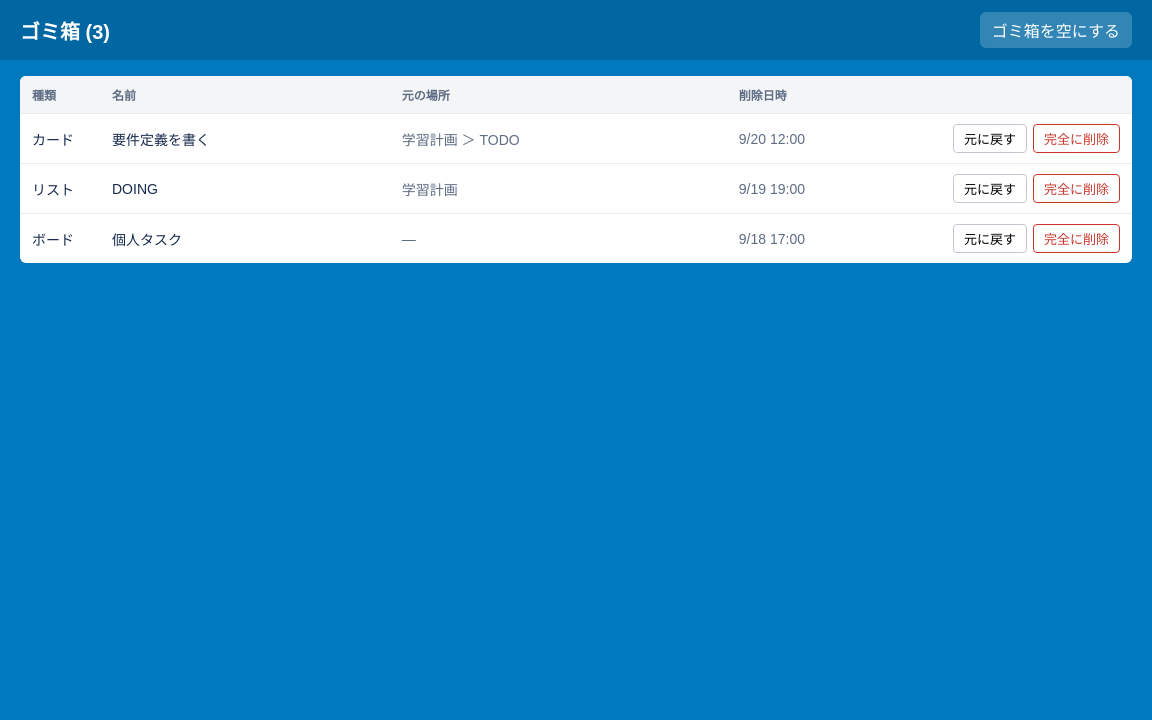
Scenario: 元に戻す（F-42） › 409 のときはサーバーの文言をそのまま出す
This screenshot has width=1152, height=720.
Click the button "元に戻す" in the row of "リスト" at (990,188), box [953,174,1027,203]
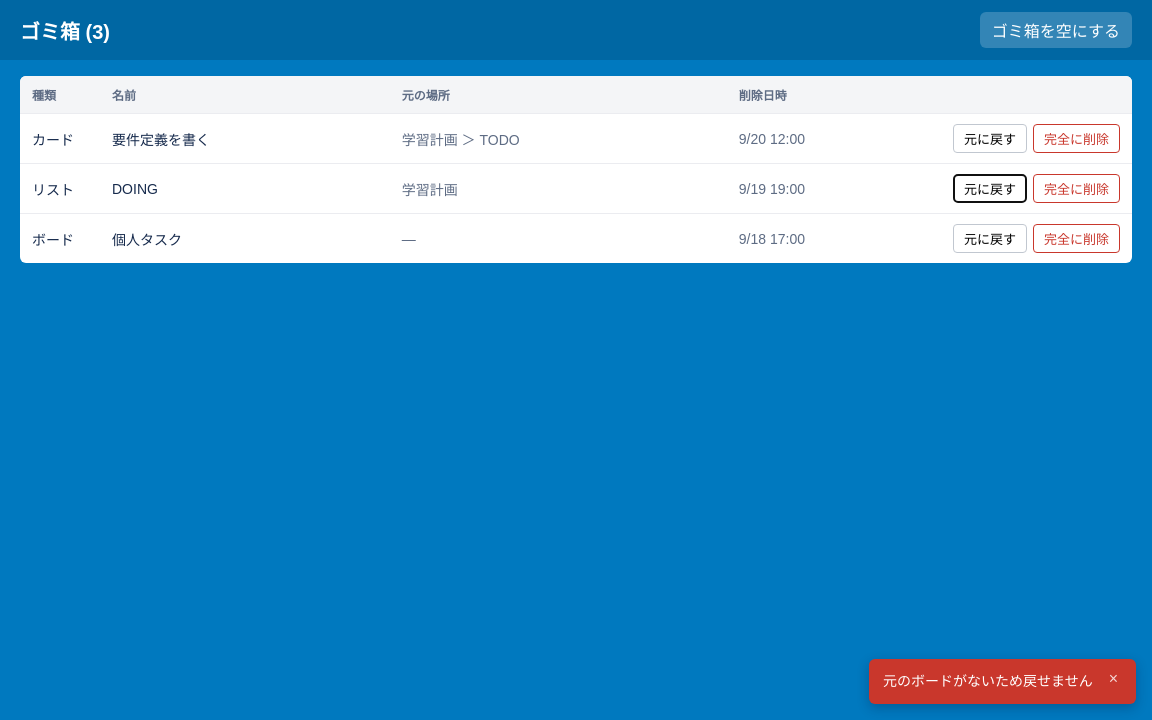
Result: the text "元のボードがないため戻せません" is shown at [883,671,1093,692]
